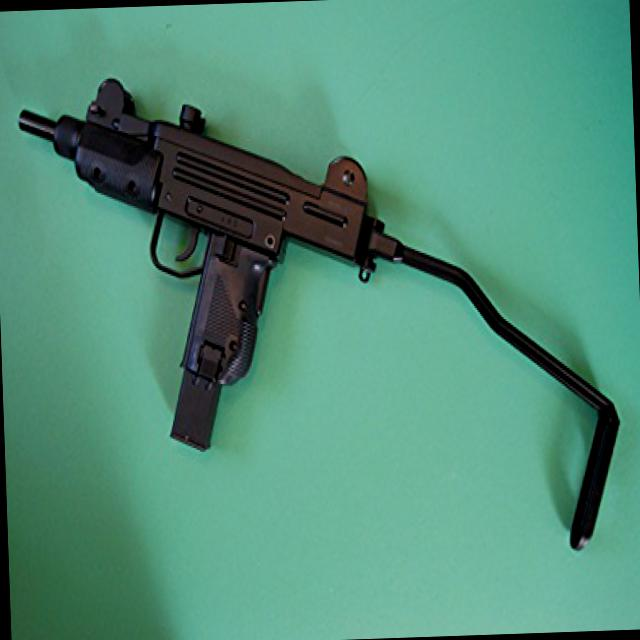handgun: (8, 48, 374, 468)
